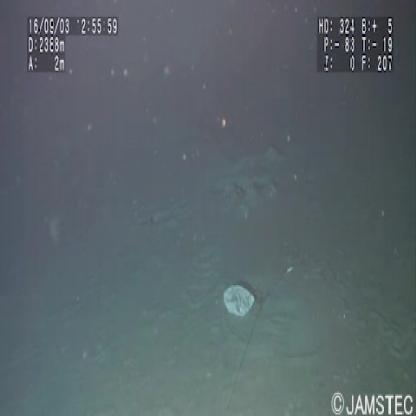Rác: (220, 276, 261, 320)
